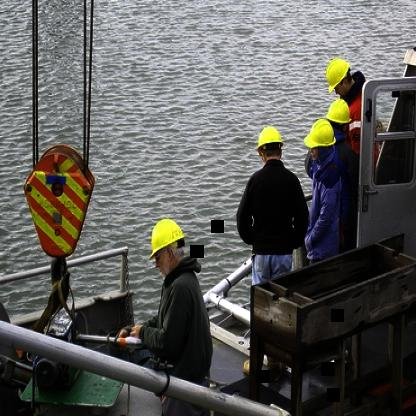helmet: (150, 217, 186, 278), (304, 119, 334, 162), (324, 54, 353, 96), (256, 125, 284, 166), (326, 99, 350, 137)
